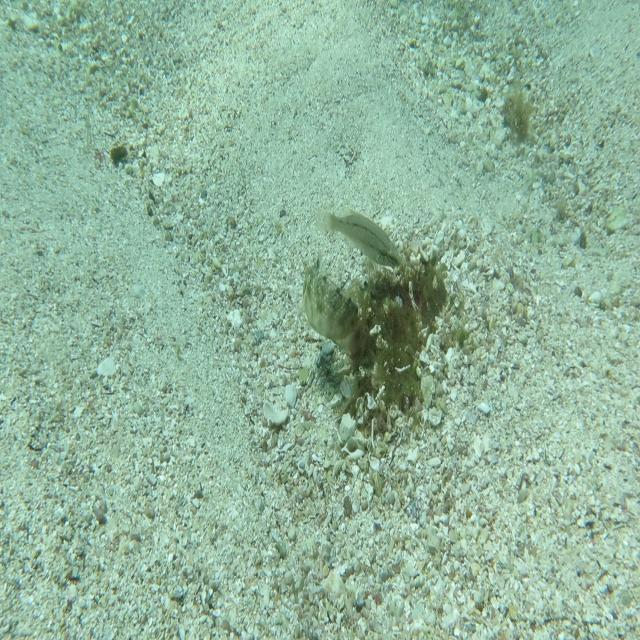DAN_CIRC: (302, 250, 362, 342)
female: (316, 203, 404, 270)
nest: (324, 228, 454, 432)
